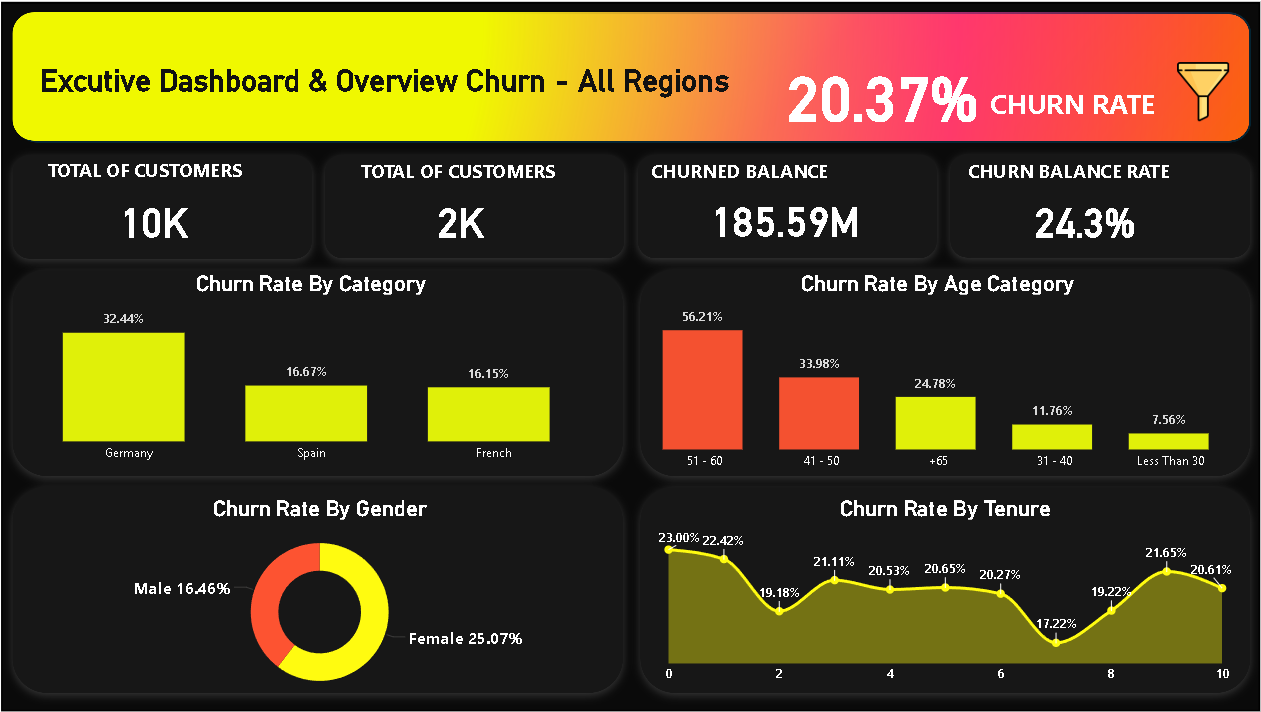

Layout of this report page (visuals, bound fields, positions):
{"tool":"powerbi","page":{"name":"Page 2","canvas":[1280,720],"ordinal":0},"visuals":[{"type":"image","title":"7 Image","box":[10.8,0,1269.2,719.2],"z":0},{"type":"textbox","box":[1000,83.8,200,48.8],"z":1000},{"type":"card","fields":{"Values":["All_Data.total_customer"]},"box":[103.3,194.5,130.9,54],"z":2000},{"type":"card","fields":{"Values":["All_Data.churn_rate"]},"box":[767.5,56.2,261.2,76.2],"z":3000},{"type":"card","fields":{"Values":["All_Data.churned_balance"]},"box":[668.8,183.7,263,74.4],"z":4000},{"type":"textbox","box":[661.6,156.1,270.2,54],"z":5000},{"type":"columnChart","title":"Churn Rate By Category","fields":{"Y":["All_Data.churn_rate"],"Category":["All_Data.Geography"]},"box":[0,274.2,652.5,200.8],"z":6000},{"type":"columnChart","title":"Churn Rate By Age Category","fields":{"Y":["All_Data.churn_rate"],"Category":["All_Data.age_group"]},"box":[626.8,273.8,653.2,208.9],"z":7000},{"type":"donutChart","title":"Churn Rate By Gender","fields":{"Y":["All_Data.churn_rate"],"Category":["All_Data.Gender"]},"box":[42,498.3,584.8,208.9],"z":8000},{"type":"areaChart","title":"Churn Rate By Tenure","fields":{"Y":["All_Data.churn_rate"],"Category":["All_Data.Tenure"]},"box":[668.8,498.3,583.6,196.9],"z":9000},{"type":"card","fields":{"Values":["All_Data.dynamic_title"]},"box":[11.2,56.2,776.2,51.2],"z":10000},{"type":"textbox","box":[57.5,155,222.5,40],"z":11000},{"type":"card","fields":{"Values":["All_Data.churned_customer"]},"box":[410.7,188.5,129.7,67.2],"z":12000},{"type":"textbox","box":[371.2,156.2,206.2,38.8],"z":13000},{"type":"textbox","box":[977.5,156.2,243.8,40],"z":14000},{"type":"card","fields":{"Values":["All_Data.%_churned_balance"]},"box":[1028.5,188.6,143.3,66.6],"z":15000},{"type":"image","box":[1183.8,56.2,68.8,76.2],"z":16000}]}

Visuals, with their boxes in screenshot pixels (x1, y1, x2, y2), scaled from the page's 1280x720 canvas onto the 1261x712 screenshot:
"7 Image" image: bbox(11, 0, 1260, 711)
textbox: bbox(985, 83, 1182, 131)
card - All_Data.total_customer: bbox(102, 192, 231, 246)
card - All_Data.churn_rate: bbox(756, 56, 1013, 131)
card - All_Data.churned_balance: bbox(659, 182, 918, 255)
textbox: bbox(652, 154, 918, 208)
"Churn Rate By Category" columnChart: bbox(0, 271, 643, 470)
"Churn Rate By Age Category" columnChart: bbox(617, 271, 1260, 477)
"Churn Rate By Gender" donutChart: bbox(41, 493, 617, 699)
"Churn Rate By Tenure" areaChart: bbox(659, 493, 1234, 687)
card - All_Data.dynamic_title: bbox(11, 56, 776, 106)
textbox: bbox(57, 153, 276, 193)
card - All_Data.churned_customer: bbox(405, 186, 532, 253)
textbox: bbox(366, 154, 569, 193)
textbox: bbox(963, 154, 1203, 194)
card - All_Data.%_churned_balance: bbox(1013, 187, 1154, 252)
image: bbox(1166, 56, 1234, 131)
